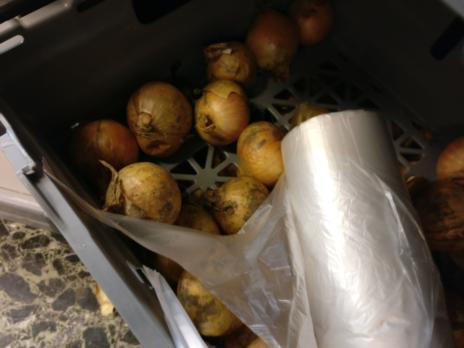Onion: (114, 81, 196, 158), (103, 163, 183, 230), (236, 122, 292, 184), (72, 117, 132, 171), (191, 84, 245, 140), (213, 177, 265, 228), (247, 7, 291, 66), (204, 36, 251, 81)
